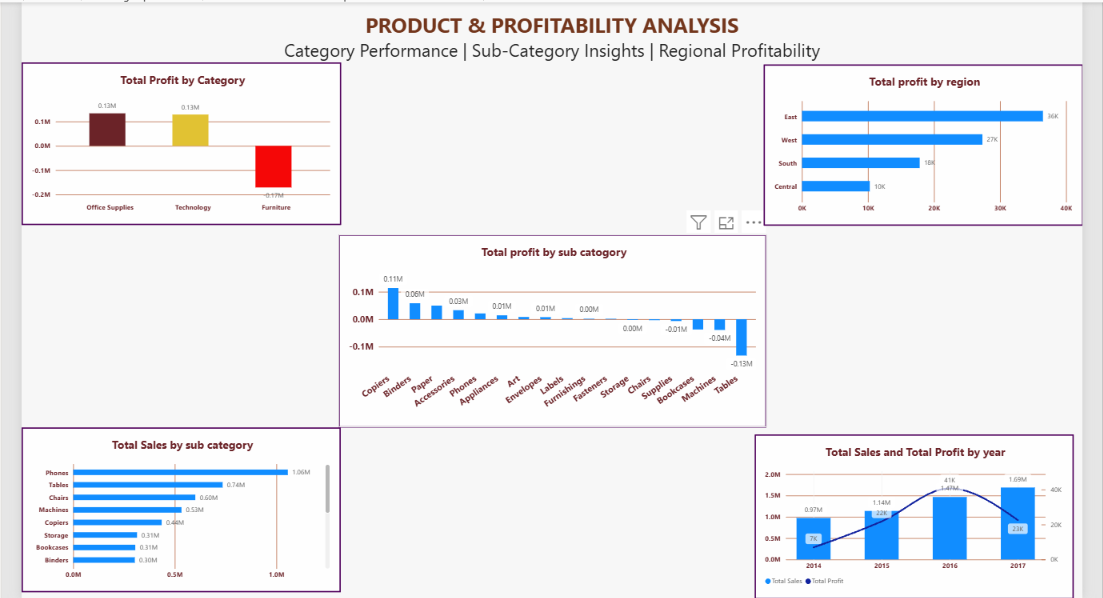

Layout of this report page (visuals, bound fields, positions):
{"tool":"powerbi","page":{"name":"product and profitablity analysis","canvas":[1920,1080],"ordinal":1},"visuals":[{"type":"clusteredColumnChart","fields":{"Category":["superstore.Category"],"Y":["superstore.Total Profit"]},"box":[0,108.6,578.1,294.3],"z":0},{"type":"lineClusteredColumnComboChart","title":"Total profit by sub catogory","fields":{"Category":["superstore.Sub-Category"],"Y":["superstore.Total Profit"]},"box":[573.7,419.8,774.5,349.3],"z":1},{"type":"clusteredBarChart","title":"Total Sales by sub category","fields":{"Category":["superstore.Sub-Category"],"Y":["superstore.Total Sales"]},"box":[0,769.1,577.3,298.6],"z":2},{"type":"lineClusteredColumnComboChart","title":"Total Sales and Total Profit by year","fields":{"Category":["superstore.Order Date.Variation.Date Hierarchy.Year"],"Y":["superstore.Total Sales"],"Y2":["superstore.Total Profit"]},"box":[1326.5,781.8,577.3,298.6],"z":3},{"type":"clusteredBarChart","title":"Total profit by region","fields":{"Category":["superstore.Region"],"Y":["superstore.Total Profit"]},"box":[1342.8,112.2,578.1,292.2],"z":4},{"type":"textbox","box":[0,0,1920.1,132.1],"z":9}]}

Visuals, with their boxes on the page's 1920x1080 design canvas (x1, y1, x2, y2). These are canvas units, not pixel positions in the 1103x598 screenshot, which may show the page scaled, cropped or inside an application window:
clusteredColumnChart - superstore.Category x superstore.Total Profit: bbox(0, 109, 578, 403)
"Total profit by sub catogory" lineClusteredColumnComboChart: bbox(574, 420, 1348, 769)
"Total Sales by sub category" clusteredBarChart: bbox(0, 769, 577, 1068)
"Total Sales and Total Profit by year" lineClusteredColumnComboChart: bbox(1326, 782, 1904, 1080)
"Total profit by region" clusteredBarChart: bbox(1343, 112, 1921, 404)
textbox: bbox(0, 0, 1920, 132)
